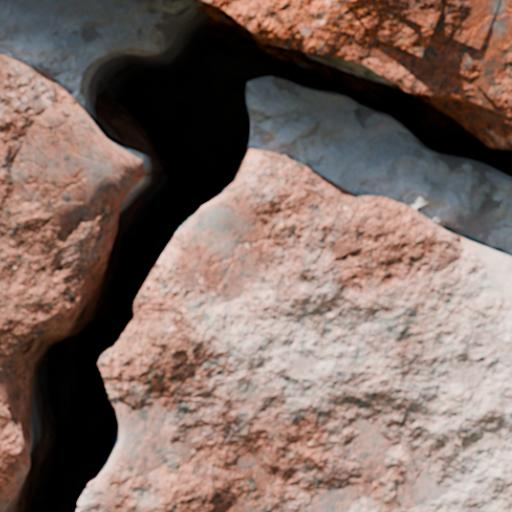brick: (194, 0, 511, 147)
broken_brick: (79, 147, 511, 511), (0, 53, 142, 509)
crack: (0, 1, 511, 511)
